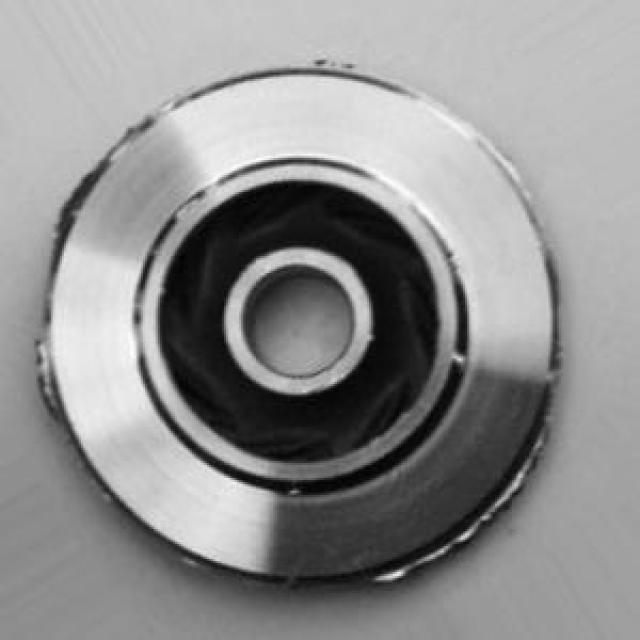Defect: (473, 455, 553, 520)
